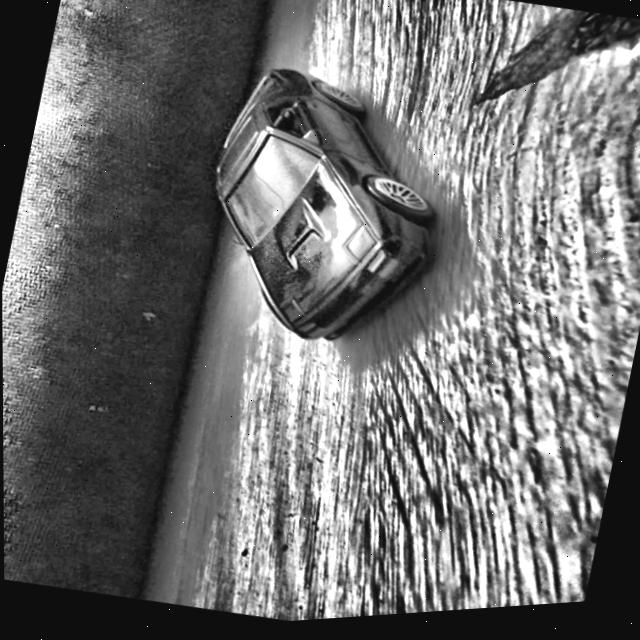car: (181, 51, 464, 371)
